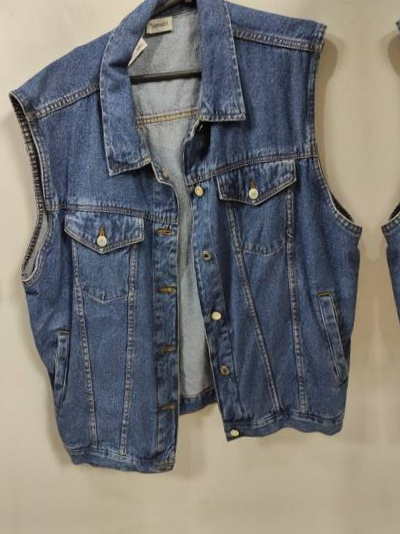Blazer: (5, 0, 363, 478), (380, 0, 400, 459)
